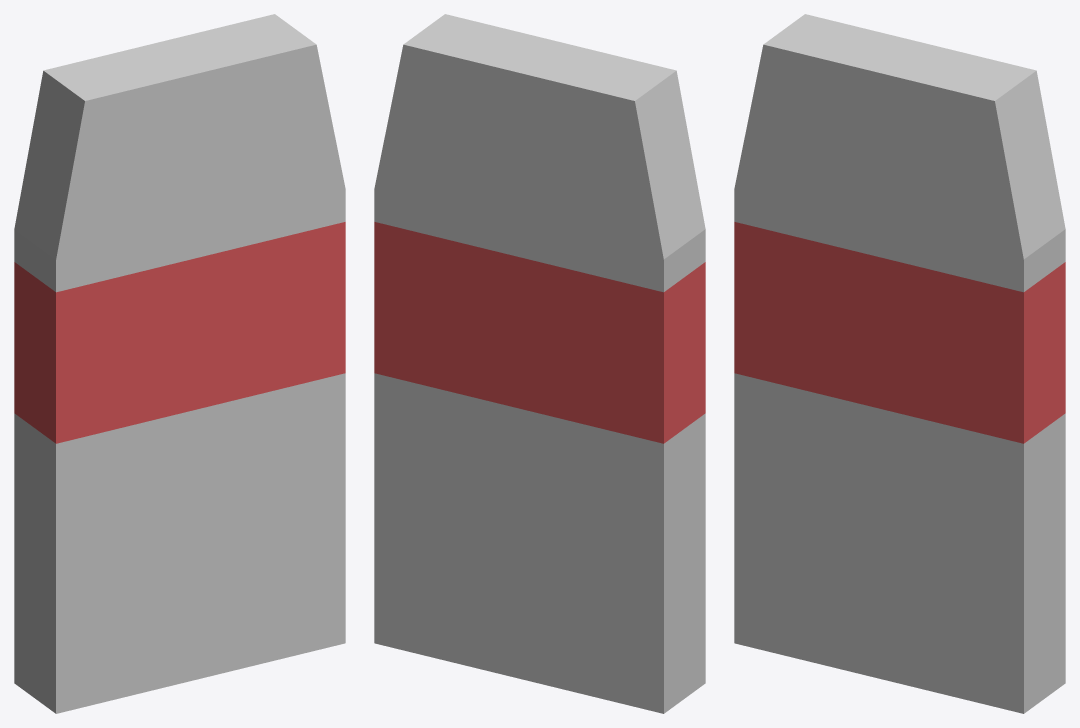
The model's file is door.fbx.
The picture shows the model from 3 angles, left to right: view 1: azimuth 30°, elevation 25°; view 2: azimuth 150°, elevation 25°; view 3: azimuth 330°, elevation 25°; orthographic projection.
Parts seen in each view (by area): view 1: Cube; view 2: Cube; view 3: Cube.
Part boxes in pixels (x1,y1,x2,y2): Cube: (14,14,345,713); Cube: (374,14,705,713); Cube: (734,14,1065,713).
Bounding box in the file's own units: 200 × 400 × 50.
